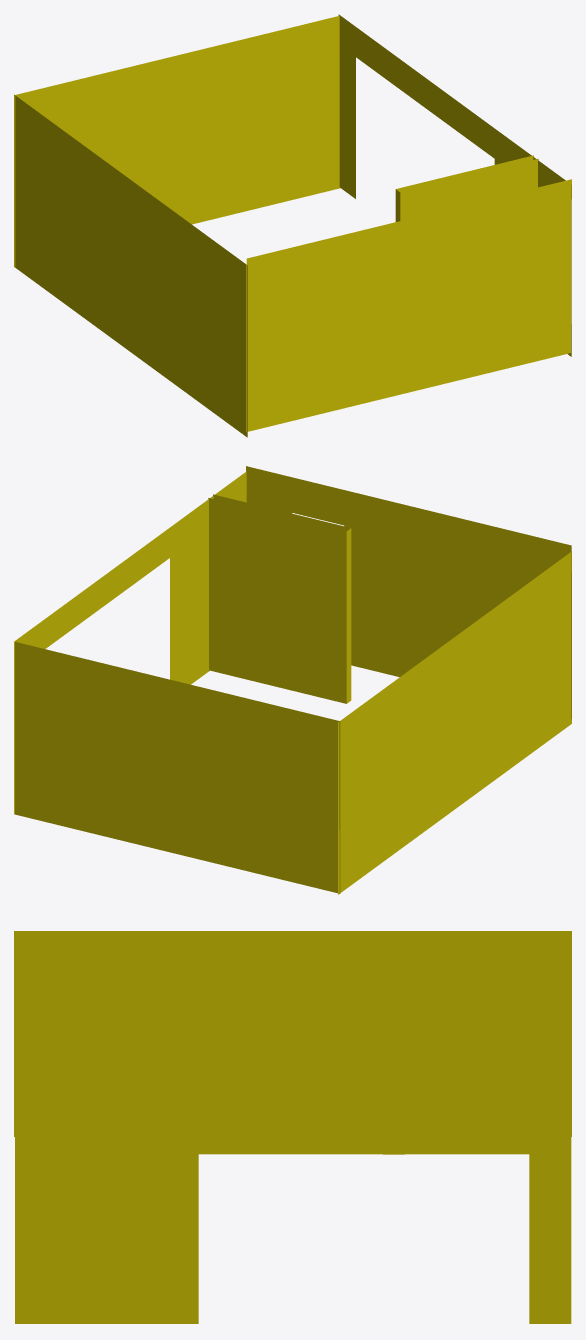
The picture shows the model from 3 angles, top to bottom: view 1: azimuth 30°, elevation 25°; view 2: azimuth 150°, elevation 25°; view 3: azimuth 270°, elevation 25°; orthographic projection. The views are drawn at different scales.
Parts seen in each view (by area): view 1: BH05_WP_G_01; view 2: BH05_WP_G_01; view 3: BH05_WP_G_01.
Part boxes in pixels (x1,y1,x2,y2): BH05_WP_G_01: [14, 14, 571, 437]; BH05_WP_G_01: [14, 466, 571, 894]; BH05_WP_G_01: [14, 931, 571, 1323].
Size of the model in its own units: 720 by 377 by 894.
